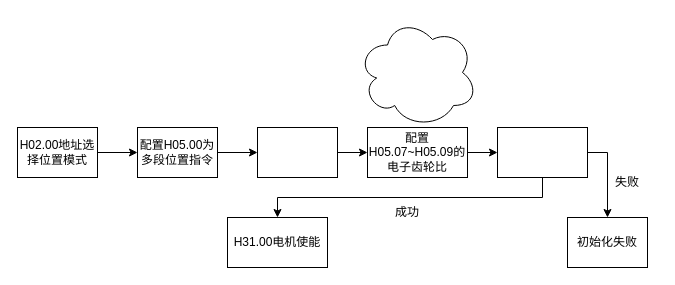
The diagram is 675 pixels wide and 285 high, and some of its shapes have lost their labels. The centre of each missing label's shape, as x and y in pixels:
"使用同步齿轮 带使用电子齿 轮比会更精准" goes at (x=417, y=72).
"设置参数检查" goes at (x=542, y=152).
"配置H05.02为1圈的位置指令数为0" goes at (x=297, y=152).
